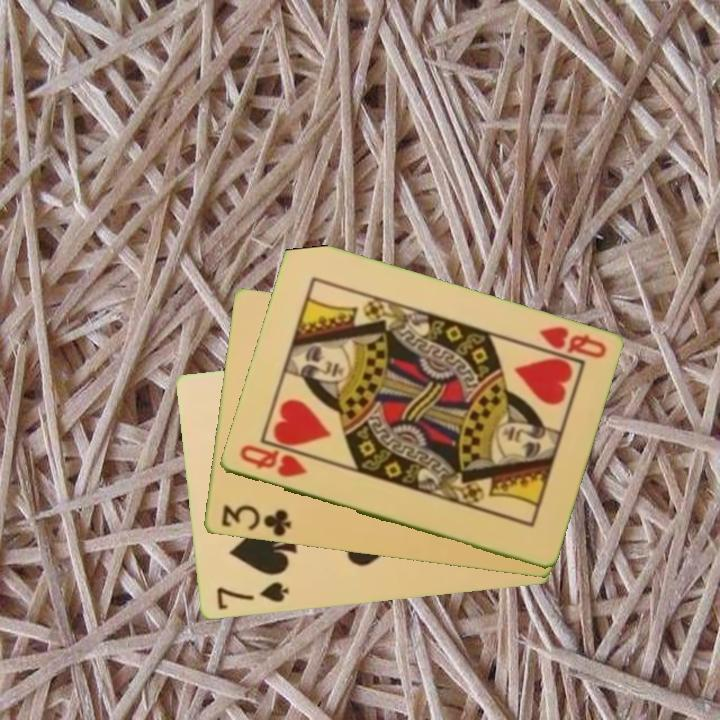3c: (217, 501, 294, 540)
7s: (213, 578, 292, 613)
Qh: (525, 323, 609, 364), (235, 441, 310, 481)
